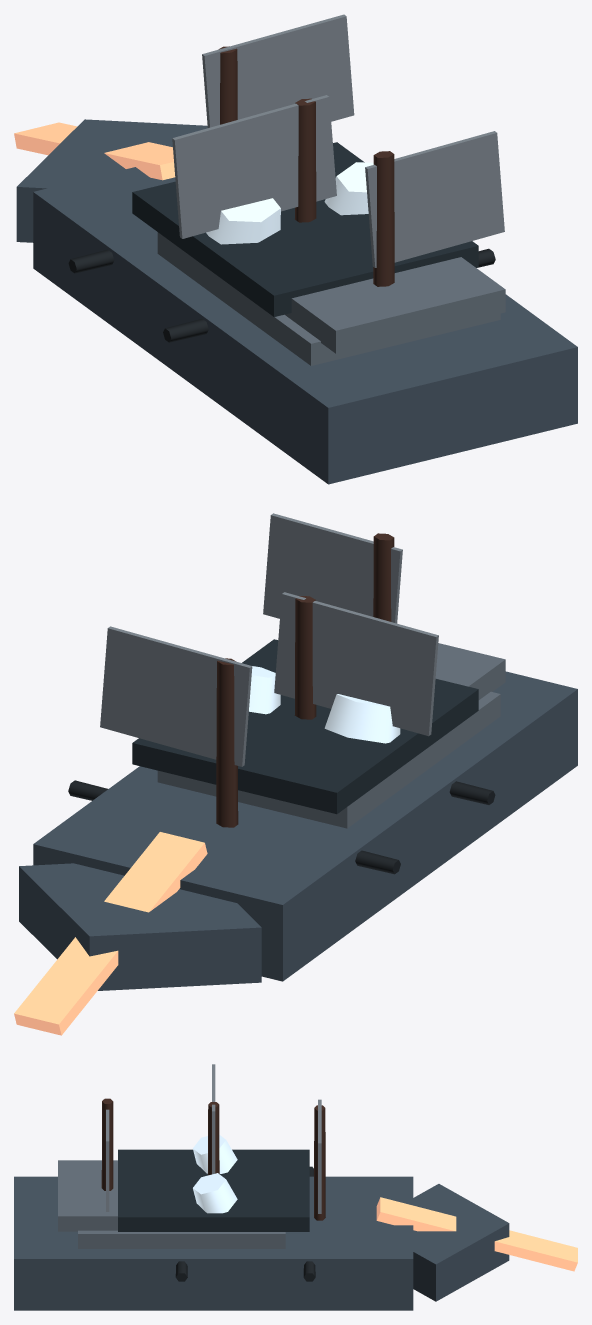
File: ship_main_59_lod1.glb
3 views of the same model, one above another, from view 1: azimuth 30°, elevation 25°; view 2: azimuth 150°, elevation 25°; view 3: azimuth 270°, elevation 25° (orthographic). The views are drawn at different scales.
Visible parts, largest first — view 1: Hull, MortarTerrace, Sail_1, Deck_1, Sail_2, Sail_0, Bow, Deck_0, ProwIdentity, Mast_2, Mortar_-0_24, Mast_1 (+4 smaller); view 2: Hull, Bow, MortarTerrace, Sail_1, Sail_0, ProwIdentity, Sail_2, Deck_0, Mast_0, Mortar_-0_24, Deck_1, Mast_1 (+4 smaller); view 3: Hull, MortarTerrace, Bow, Deck_1, ProwIdentity, Deck_0, Mortar_0_24, Mast_0, Mortar_-0_24, Mast_2, Mast_1, Sail_0 (+2 smaller).
Boxes of the visible parts, <box> form: Hull: <box>33,167,577,484</box>; MortarTerrace: <box>132,142,478,316</box>; Sail_1: <box>172,95,336,238</box>; Deck_1: <box>285,257,505,353</box>; Sail_2: <box>365,131,504,267</box>; Sail_0: <box>202,14,354,127</box>; Bow: <box>16,119,207,242</box>; Deck_0: <box>157,232,500,365</box>; ProwIdentity: <box>14,122,175,180</box>; Mast_2: <box>373,151,394,286</box>; Mortar_-0_24: <box>206,198,280,244</box>; Mast_1: <box>295,98,316,222</box>; Hull: <box>33,671,577,981</box>; Bow: <box>19,863,261,990</box>; MortarTerrace: <box>132,639,478,814</box>; Sail_1: <box>274,592,438,736</box>; Sail_0: <box>100,626,252,766</box>; ProwIdentity: <box>14,832,207,1035</box>; Sail_2: <box>263,513,402,623</box>; Deck_0: <box>157,691,500,828</box>; Mast_0: <box>216,658,238,827</box>; Mortar_-0_24: <box>324,694,400,743</box>; Deck_1: <box>435,643,505,699</box>; Mast_1: <box>294,595,316,719</box>; Hull: <box>14,1176,413,1310</box>; MortarTerrace: <box>118,1149,309,1231</box>; Bow: <box>413,1184,509,1301</box>; Deck_1: <box>58,1160,117,1231</box>; ProwIdentity: <box>376,1197,577,1271</box>; Deck_0: <box>78,1230,285,1248</box>; Mortar_0_24: <box>193,1173,237,1213</box>; Mast_0: <box>314,1105,325,1220</box>; Mortar_-0_24: <box>193,1135,237,1173</box>; Mast_2: <box>101,1098,113,1190</box>; Mast_1: <box>208,1102,219,1175</box>; Sail_0: <box>318,1099,321,1213</box>.
Bounding box in the file's own units: 3.81 × 2.8 × 8.49.
